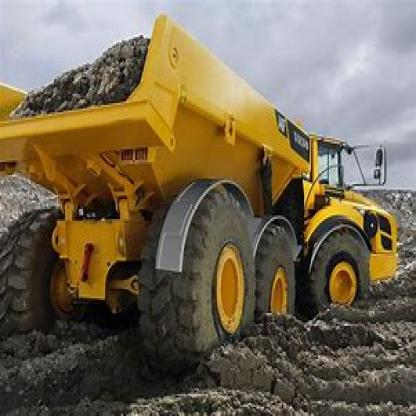dump_truck: (4, 9, 397, 374)
